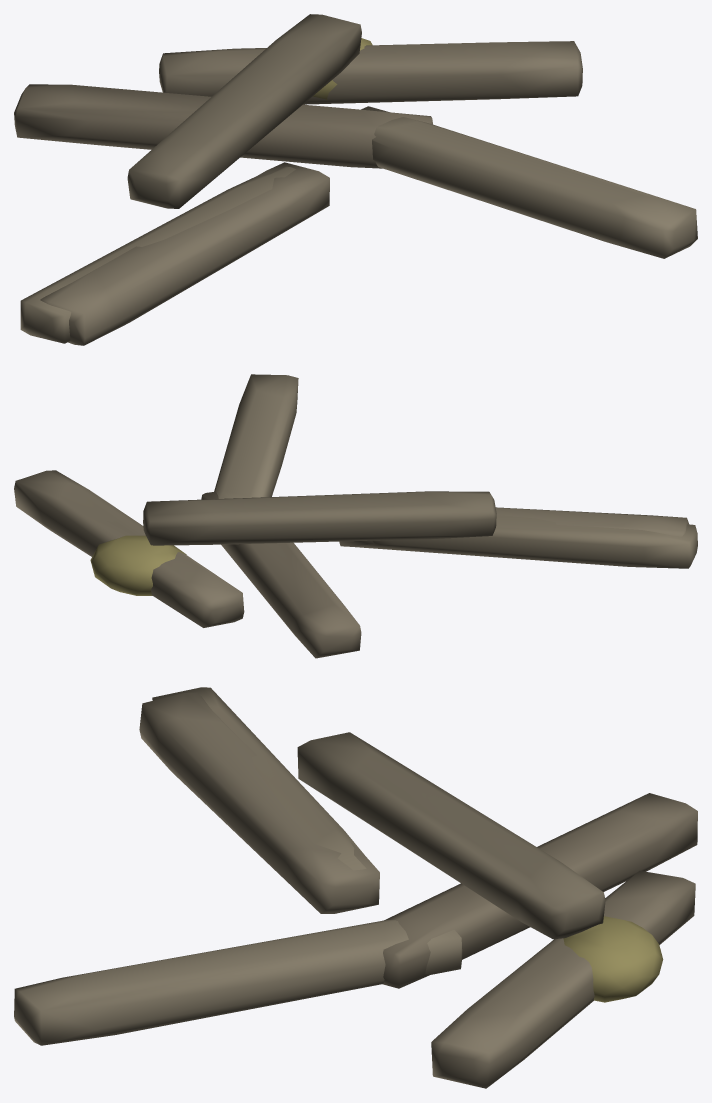
Rendered from sleeper_stack_b_lod1.glb.
3 views of the same model, one above another, from view 1: azimuth 30°, elevation 25°; view 2: azimuth 150°, elevation 25°; view 3: azimuth 270°, elevation 25° (orthographic). The views are drawn at different scales.
Parts seen in each view (by area): view 1: Surface.001; view 2: Surface.001; view 3: Surface.001.
Boxes of the visible parts, <box> form: Surface.001: <box>14,14,697,345</box>; Surface.001: <box>14,374,697,658</box>; Surface.001: <box>14,687,697,1088</box>.
Size of the model in its own units: 2.98 by 0.3797 by 2.33.
